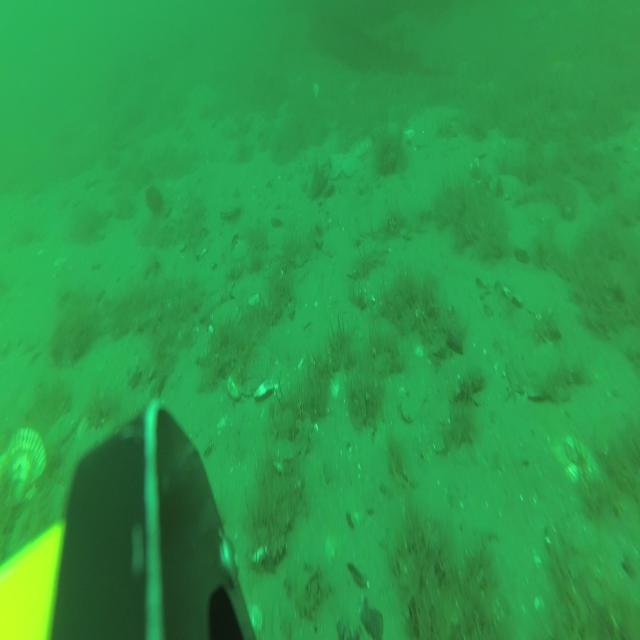scallop: (2, 428, 47, 498), (228, 346, 270, 398), (212, 297, 242, 332), (489, 173, 520, 201), (220, 195, 242, 219), (358, 136, 373, 155), (314, 80, 322, 100)
starfish: (332, 145, 361, 180)
